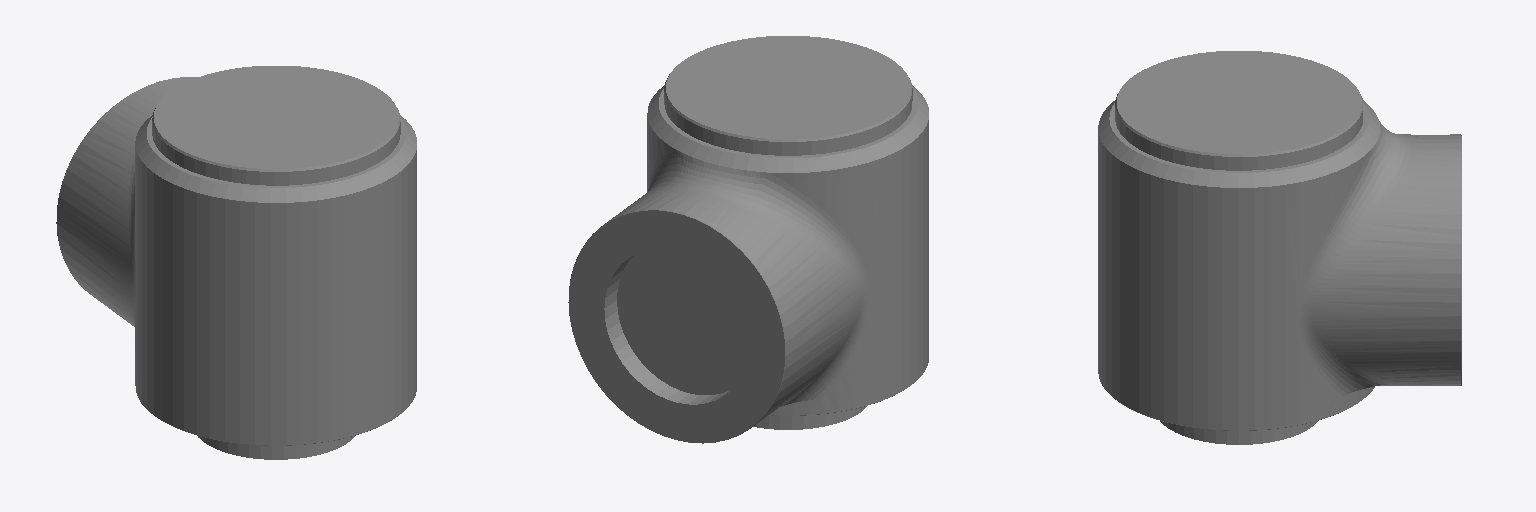
3 renders of one model, left to right at view 1: azimuth 30°, elevation 25°; view 2: azimuth 150°, elevation 25°; view 3: azimuth 270°, elevation 25°, orthographic.
Visible parts, largest first — view 1: AR5-5_07L-W4S4A1-ZY_link1; view 2: AR5-5_07L-W4S4A1-ZY_link1; view 3: AR5-5_07L-W4S4A1-ZY_link1.
Boxes of the visible parts, box(x1,y1,x2,y2) form: AR5-5_07L-W4S4A1-ZY_link1: box(56, 66, 416, 459); AR5-5_07L-W4S4A1-ZY_link1: box(568, 36, 928, 443); AR5-5_07L-W4S4A1-ZY_link1: box(1098, 51, 1461, 444).
Size of the model in its own units: 0.101 by 0.1213 by 0.1302.